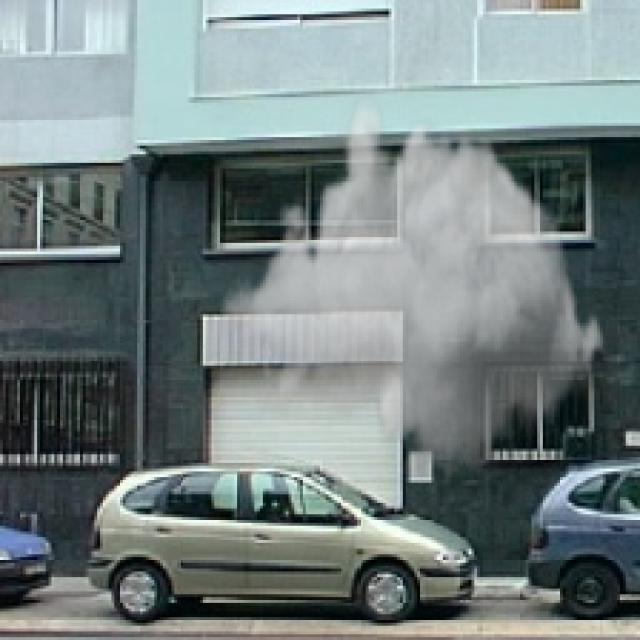smoke: (220, 91, 609, 486)
